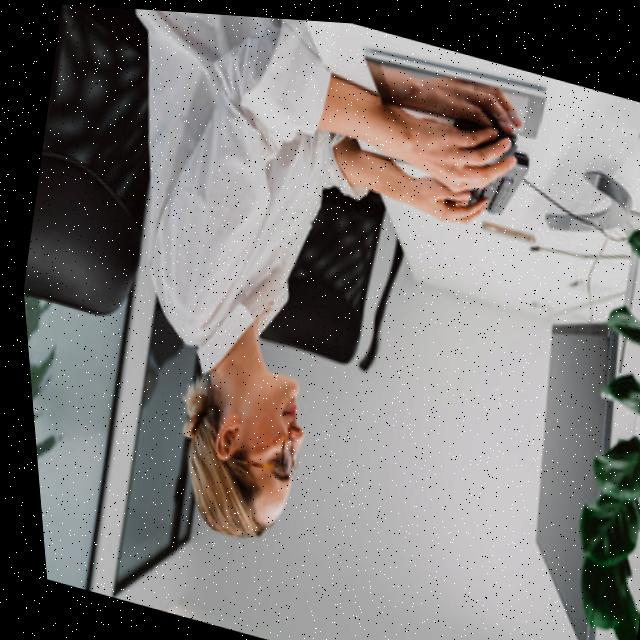desktop-person: (14, 1, 640, 640)
